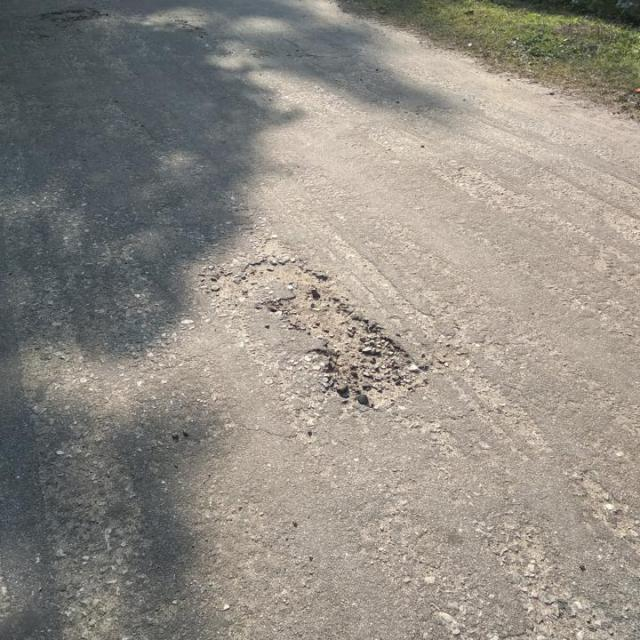pothole: (236, 253, 437, 407)
